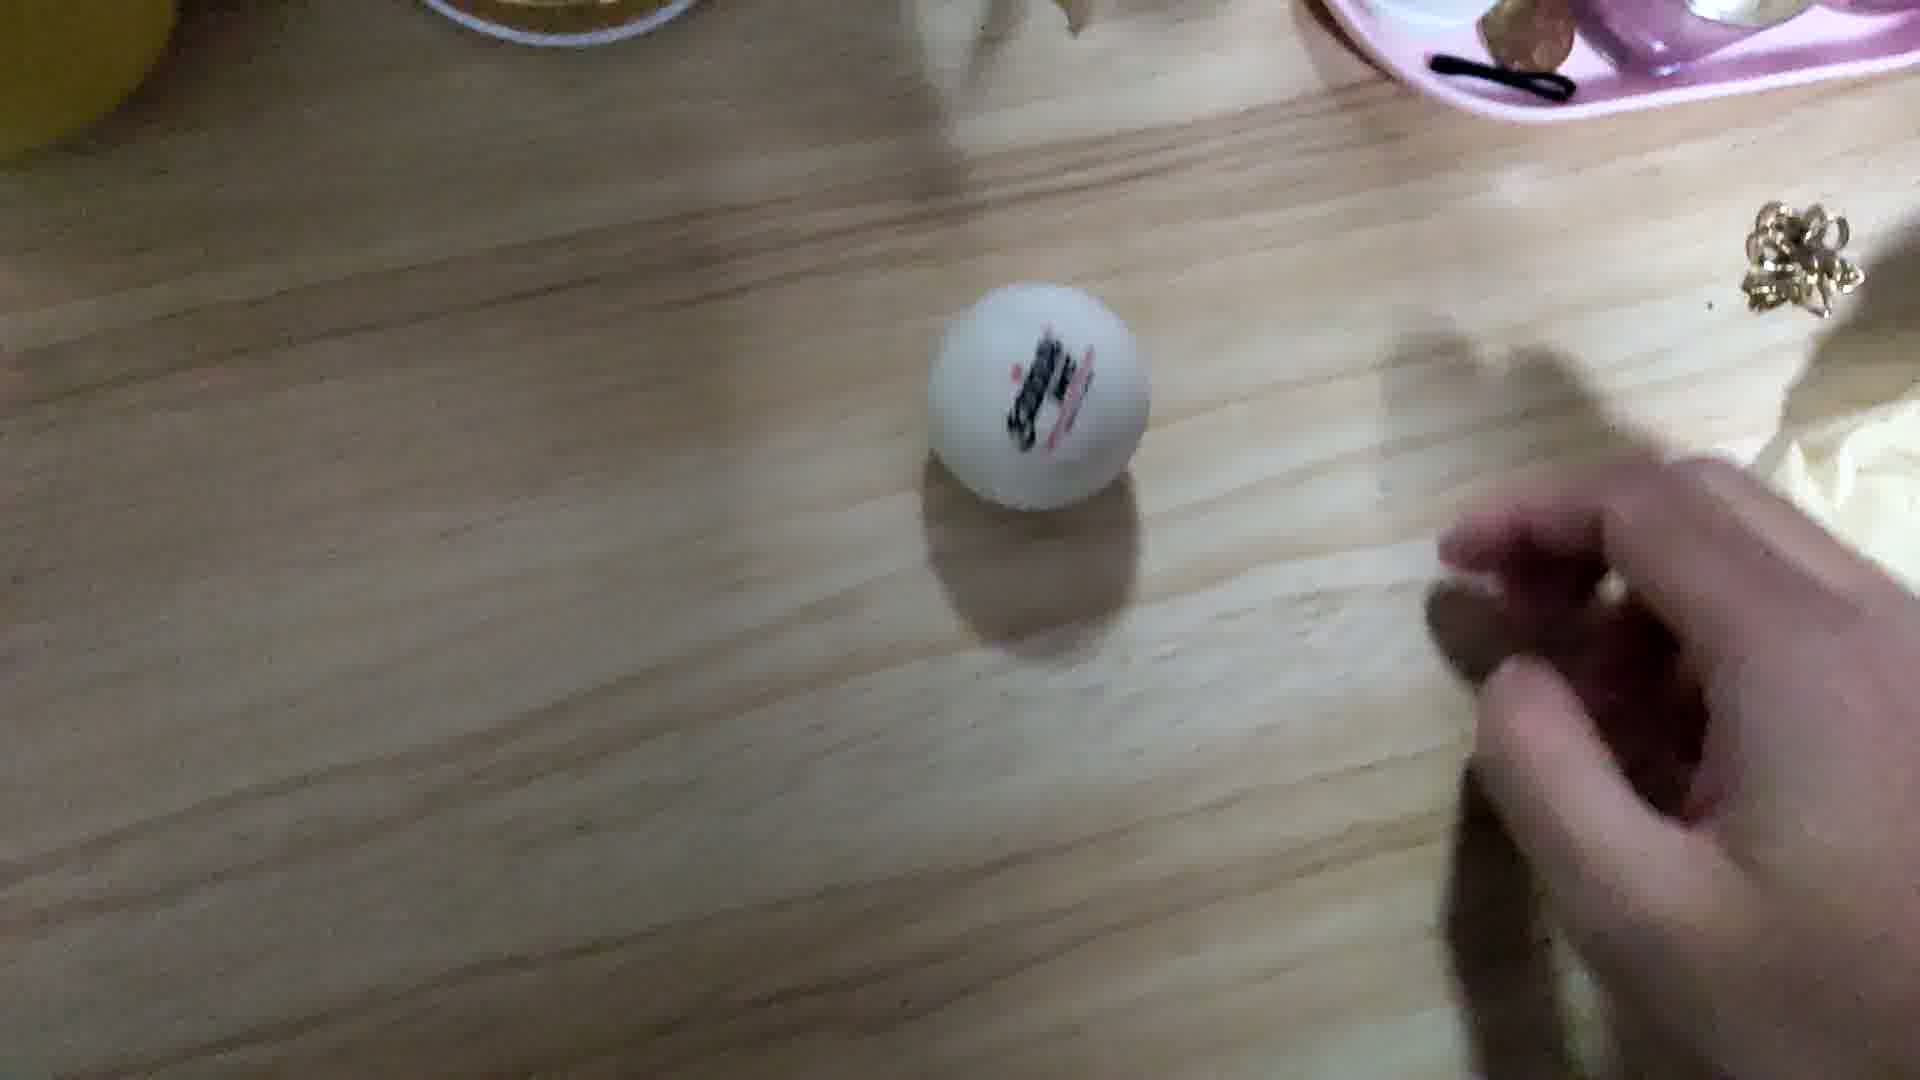Ball: (922, 280, 1154, 520)
